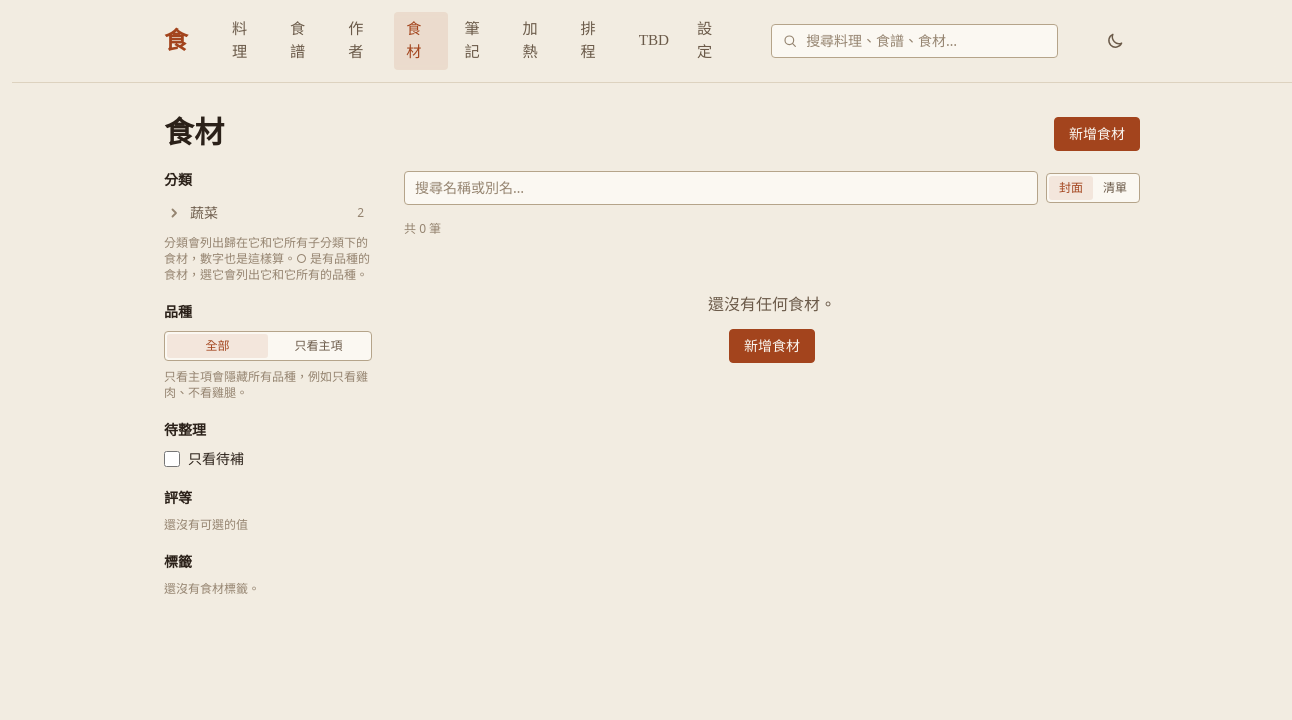
Test: the ingredient library › writes a filter click to the URL and refetches with it
expect the button "葉菜" is not shown: met
Step 1. Click the button named "展開 蔬菜" → (174, 213), box [164,201,184,225]
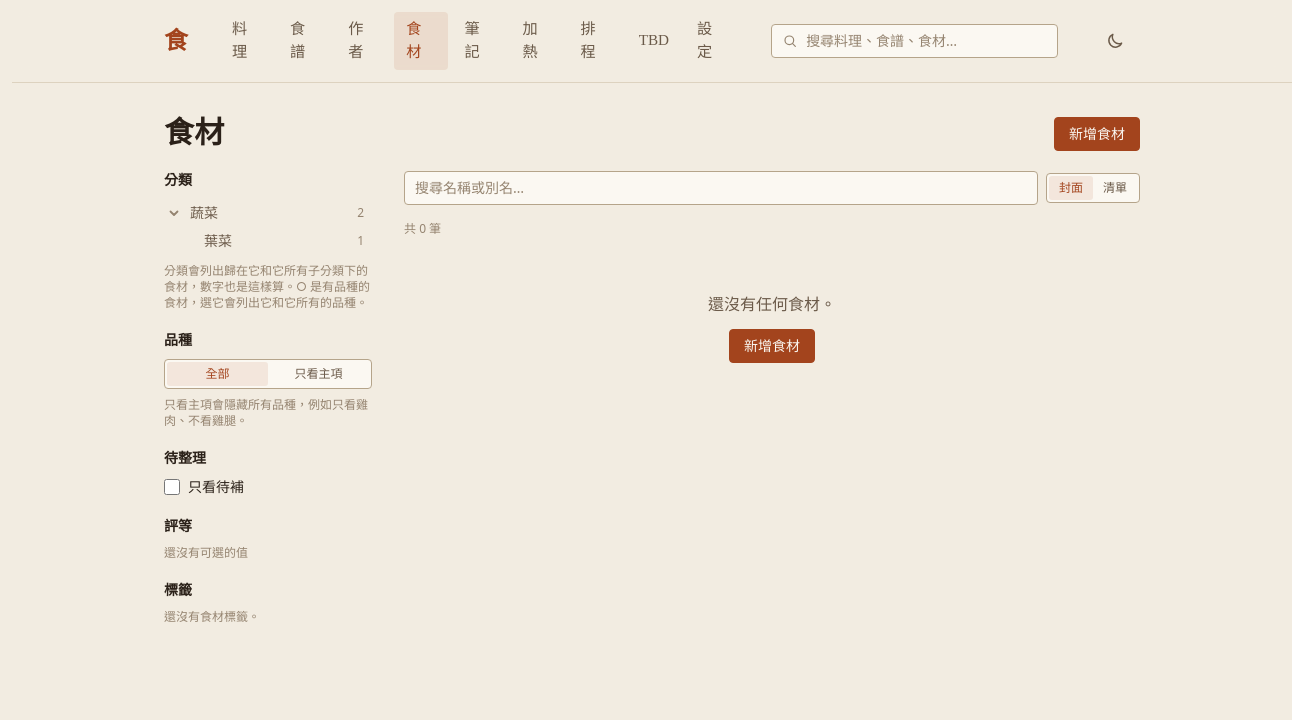
Step 2. Click the button "葉菜 1" → (286, 241), box [200,227,372,255]
(page scrolled)
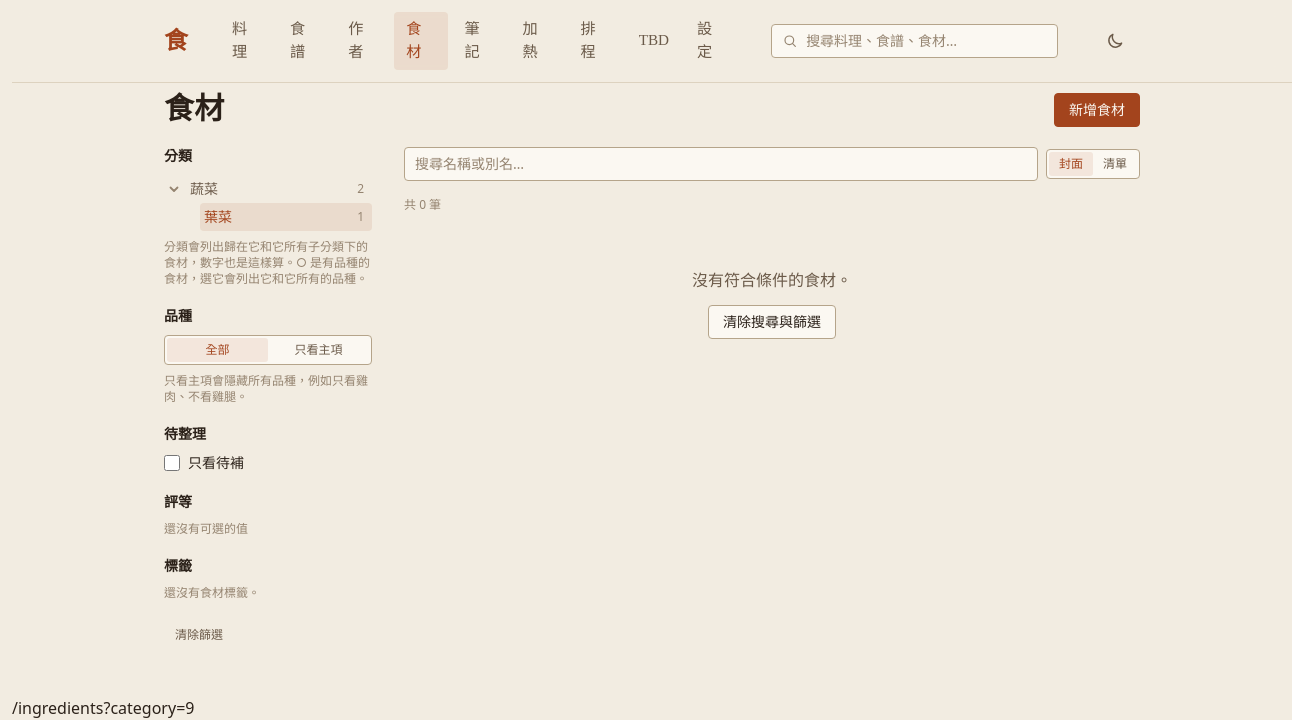
expect the text with test id "location" reads "/ingredients?category=9": met, box [12,697,194,719]
